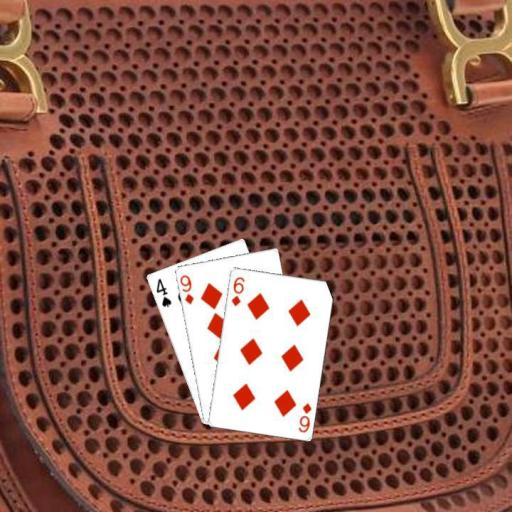4S: (153, 275, 173, 309)
6D: (228, 273, 246, 307), (295, 400, 313, 434)
9D: (177, 272, 195, 306)
